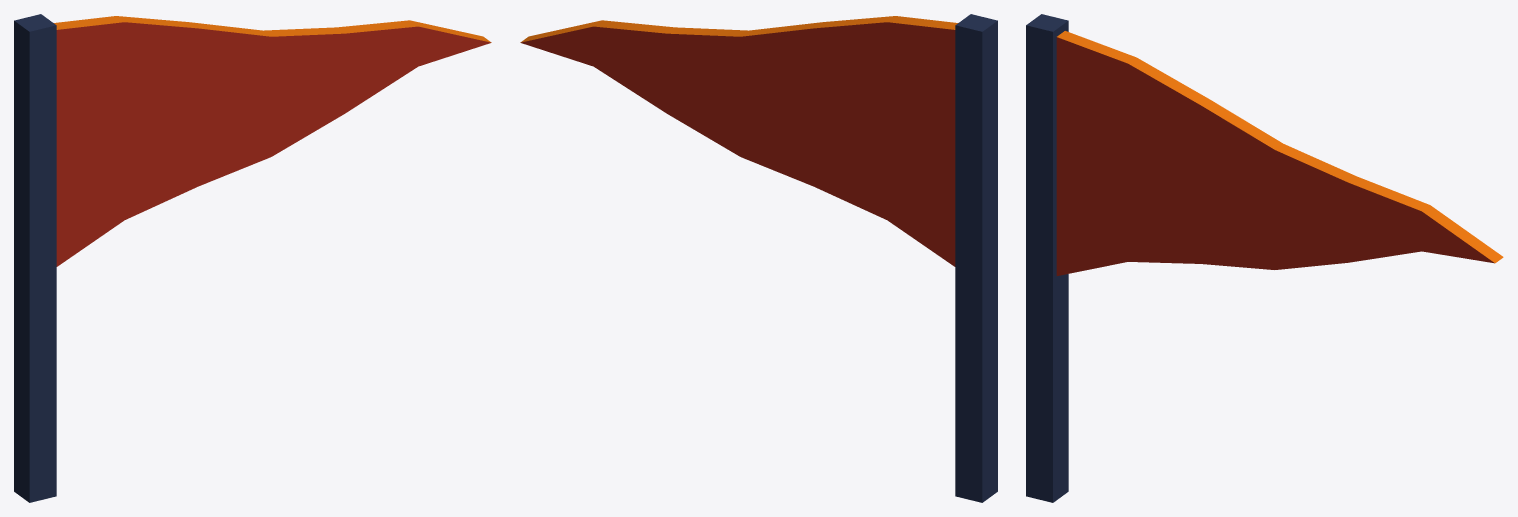
Rendered from flagB.fbx.
3 renders of one model, left to right at view 1: azimuth 30°, elevation 25°; view 2: azimuth 150°, elevation 25°; view 3: azimuth 330°, elevation 25°, orthographic.
Visible parts, largest first — view 1: flagB; view 2: flagB; view 3: flagB.
Part boxes in pixels (x1,y1,x2,y2): flagB: (14,14,491,502); flagB: (520,14,997,502); flagB: (1026,14,1503,502).
Bounding box in the file's own units: 148 × 143 × 8.47.
1 material, 1 textured.
